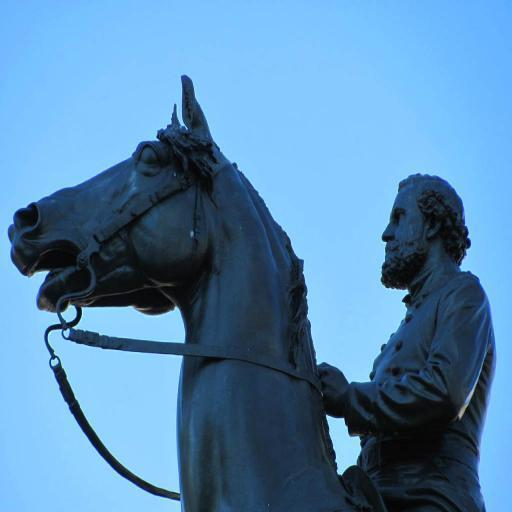horse: (8, 73, 383, 512)
